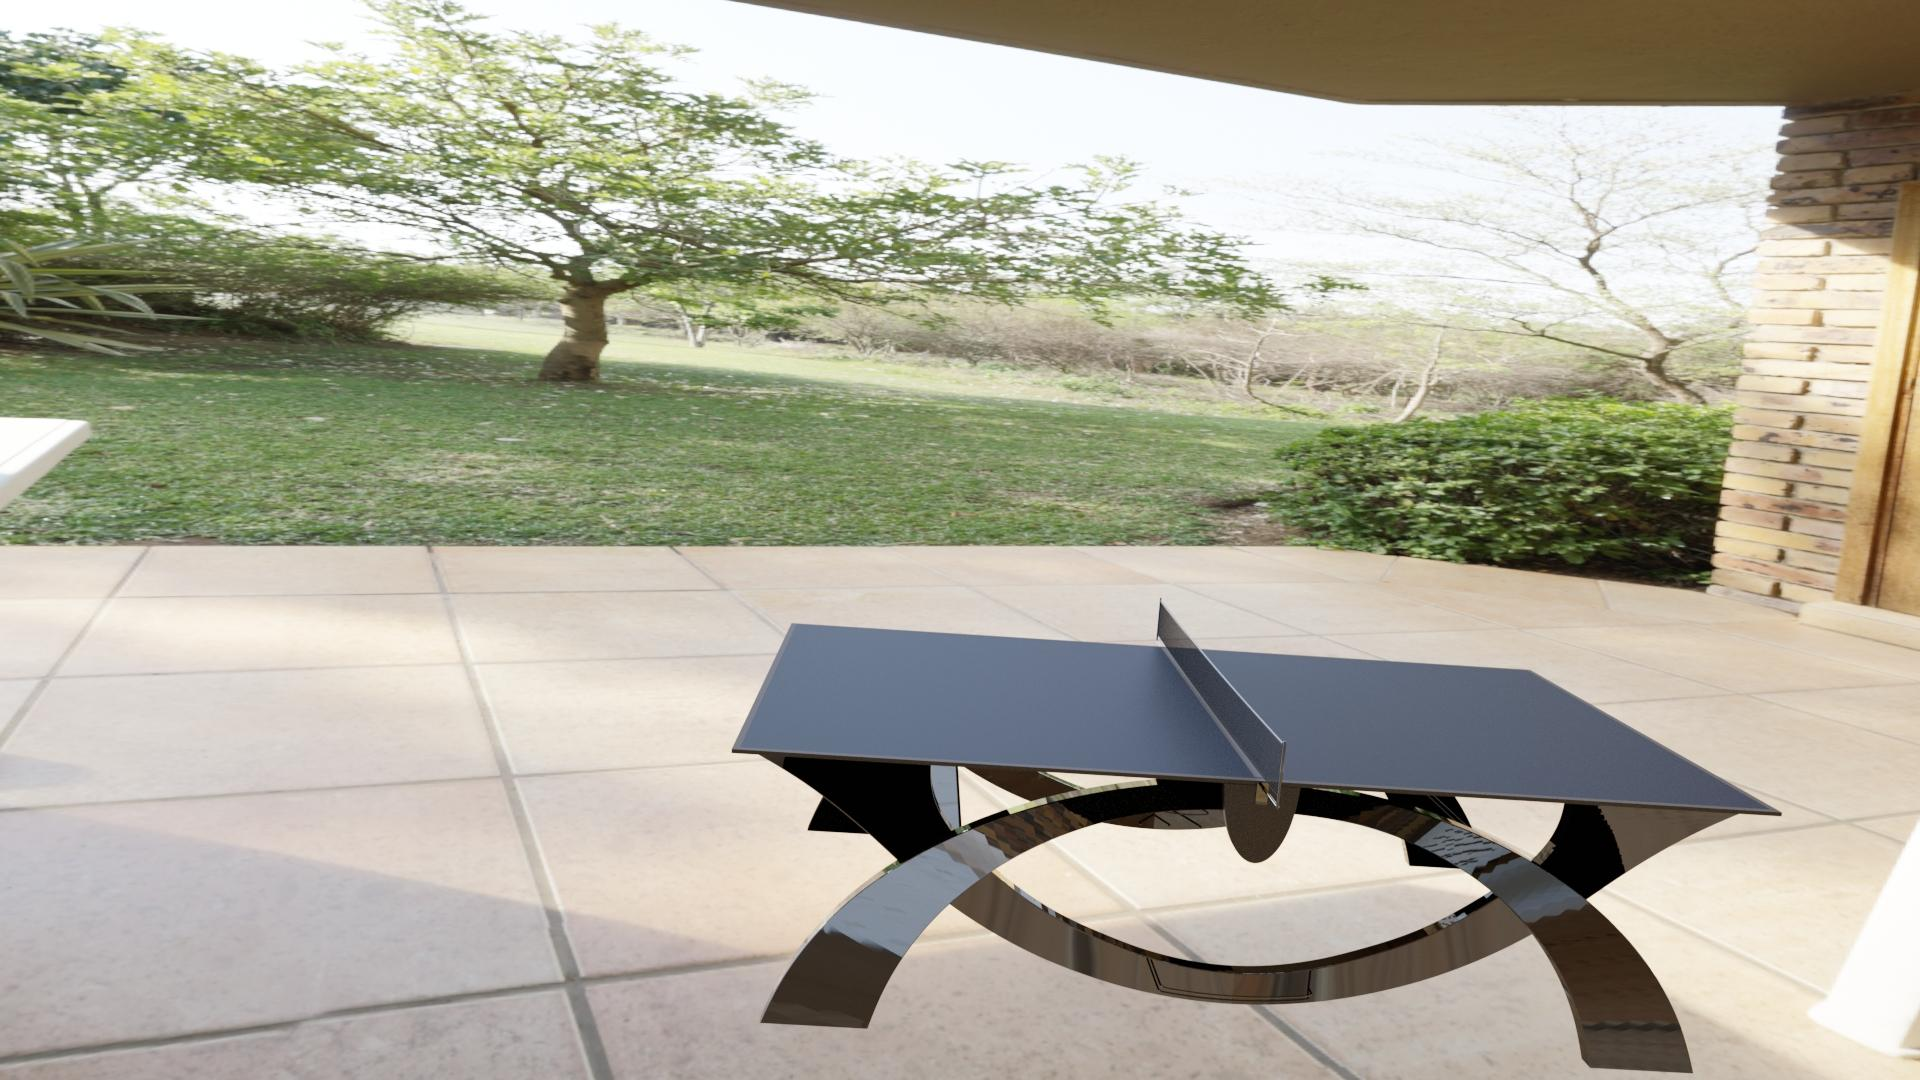table: (740, 625, 1770, 810)
